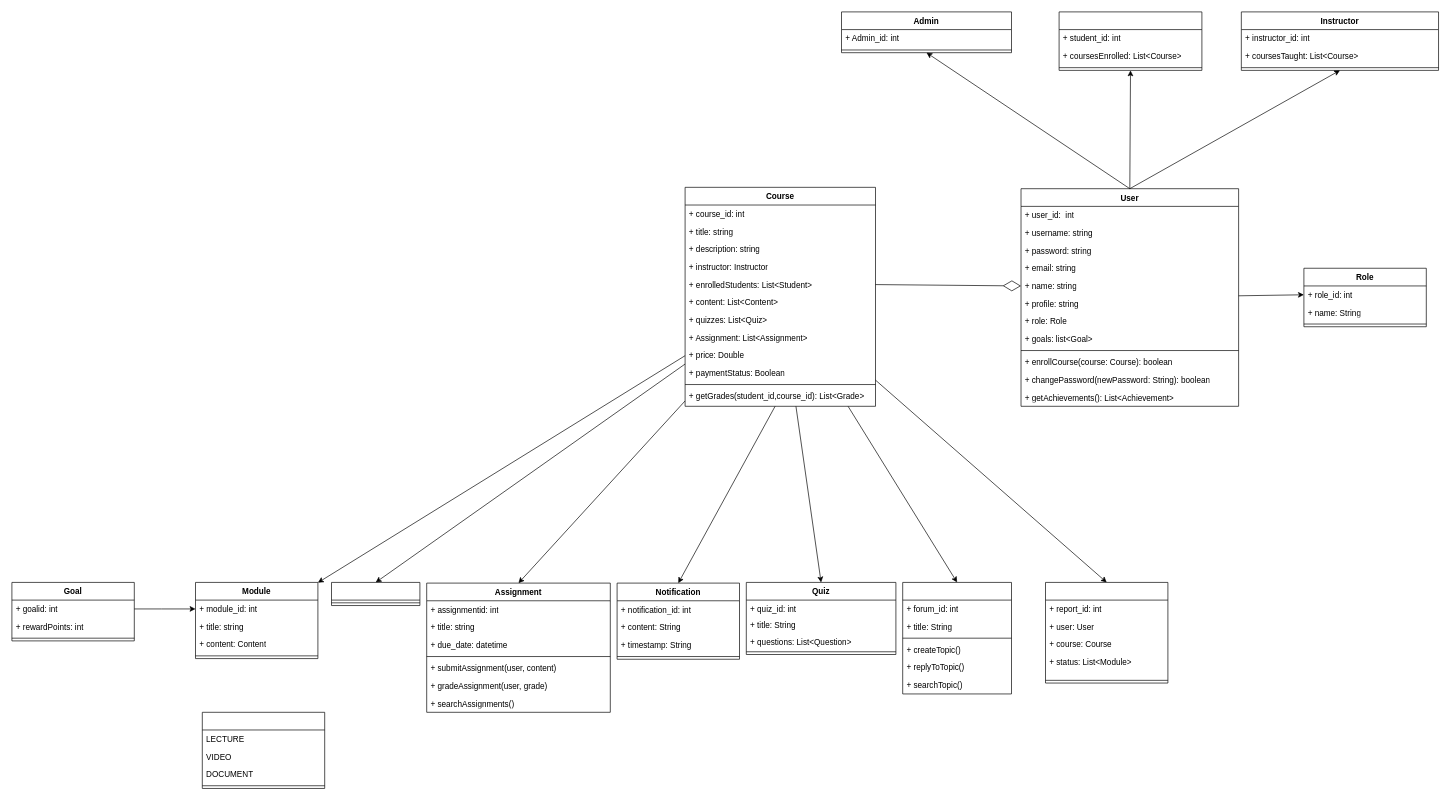
The diagram is 1450 pixels wide and 800 high, and some of its shapes have lost their labels. The shapes that lost their labels are listed below. From the top down, each one's box as (x1, y1, x2, y2) in pixels, then its label:
(1058, 11, 1202, 70): Students
(331, 582, 420, 606): Content
(902, 582, 1012, 694): Discussion Forum
(1045, 582, 1168, 683): Progress Report
(202, 712, 325, 788): (E) ContentType
